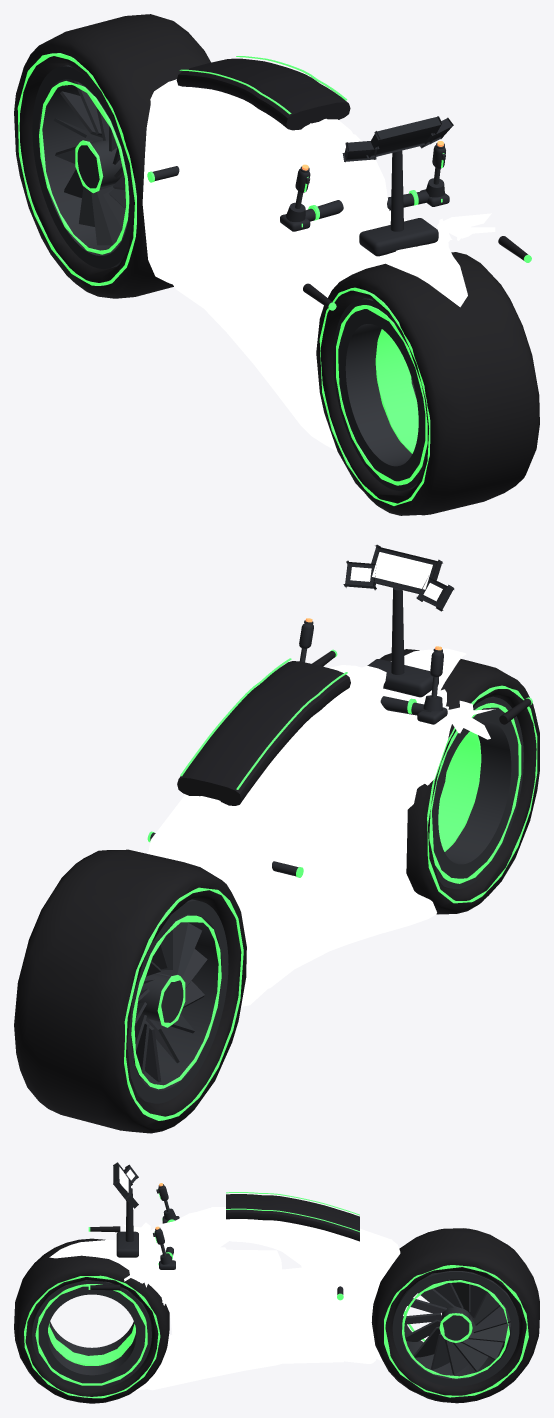
File: cycle-jade.lod.glb
3 views of the same model, one above another, from view 1: azimuth 30°, elevation 25°; view 2: azimuth 150°, elevation 25°; view 3: azimuth 270°, elevation 25° (orthographic). The views are drawn at different scales.
Visible parts, largest first — view 1: Body, WheelFront, StickL, Interior; view 2: Body, WheelFront, StickL, Interior; view 3: Body, StickL, WheelFront, Interior.
Part boxes in pixels (bbox=[...]): Body: bbox=[142, 79, 495, 451]; WheelFront: bbox=[14, 14, 539, 515]; StickL: bbox=[17, 53, 531, 505]; Interior: bbox=[176, 58, 527, 308]; Body: bbox=[148, 648, 495, 1006]; WheelFront: bbox=[14, 649, 539, 1133]; StickL: bbox=[124, 544, 537, 1120]; Interior: bbox=[177, 552, 531, 805]; Body: bbox=[49, 1207, 400, 1390]; StickL: bbox=[24, 1162, 528, 1398]; WheelFront: bbox=[14, 1228, 539, 1403]; Interior: bbox=[90, 1167, 359, 1290].
Bounding box in the file's own units: 0.805 × 1.29 × 2.79.
